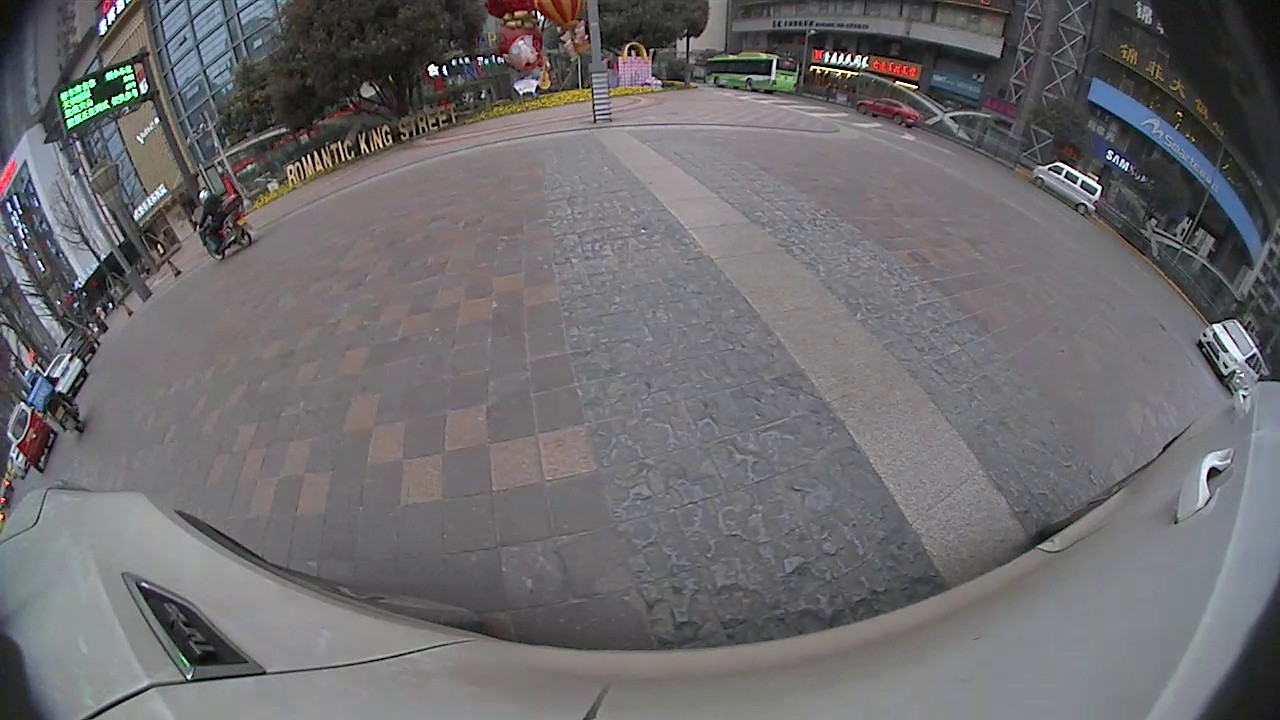bus: (703, 54, 804, 93)
car: (1198, 321, 1265, 394), (1031, 162, 1103, 214), (857, 99, 920, 130), (42, 355, 91, 394)
rider: (195, 192, 255, 261), (27, 370, 82, 436), (7, 405, 56, 473)
